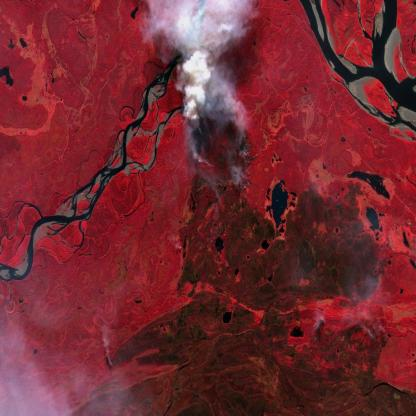fire: (185, 64, 314, 237), (300, 308, 396, 362), (91, 335, 118, 372)
